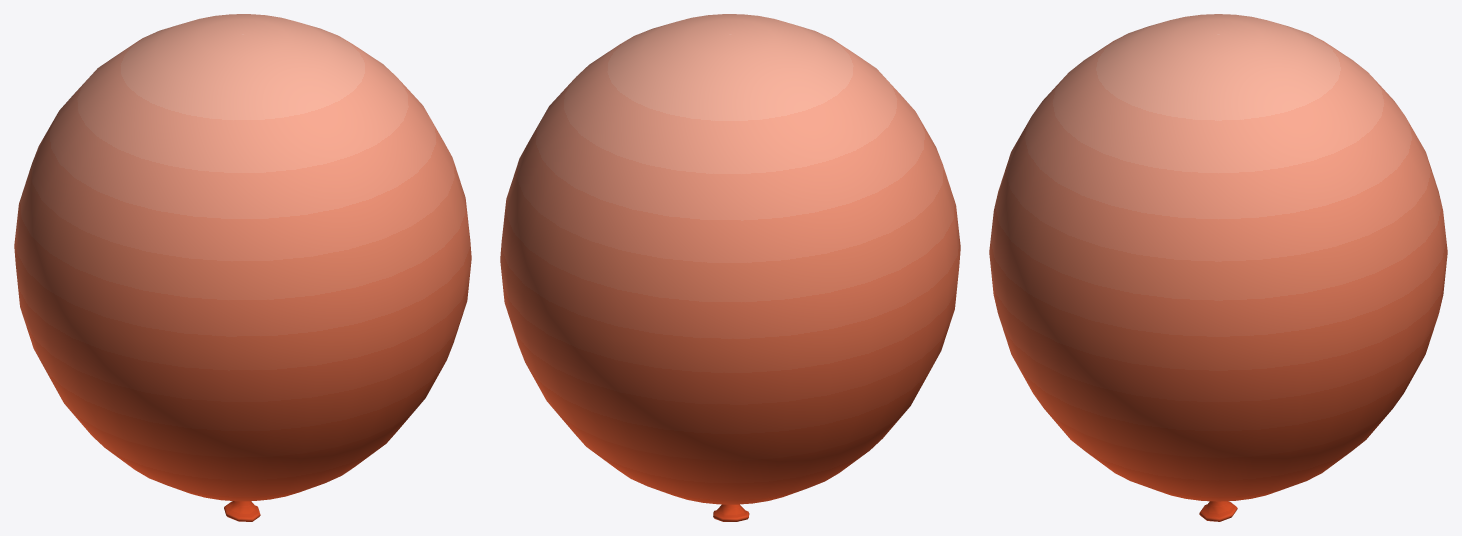
Rendered from balloon_red.fbx.
The picture shows the model from 3 angles, left to right: view 1: azimuth 30°, elevation 25°; view 2: azimuth 150°, elevation 25°; view 3: azimuth 270°, elevation 25°; orthographic projection.
Parts seen in each view (by area): view 1: balloon_red, balloon_red_t; view 2: balloon_red, balloon_red_t; view 3: balloon_red, balloon_red_t.
Part boxes in pixels (left/top/right/bottom): balloon_red: left=14, top=14, right=471, bottom=501; balloon_red_t: left=224, top=501, right=260, bottom=521; balloon_red: left=500, top=14, right=960, bottom=504; balloon_red_t: left=713, top=504, right=749, bottom=521; balloon_red: left=989, top=14, right=1447, bottom=501; balloon_red_t: left=1199, top=501, right=1237, bottom=521.
Size of the model in its own units: 64.65 by 74.87 by 64.65.
